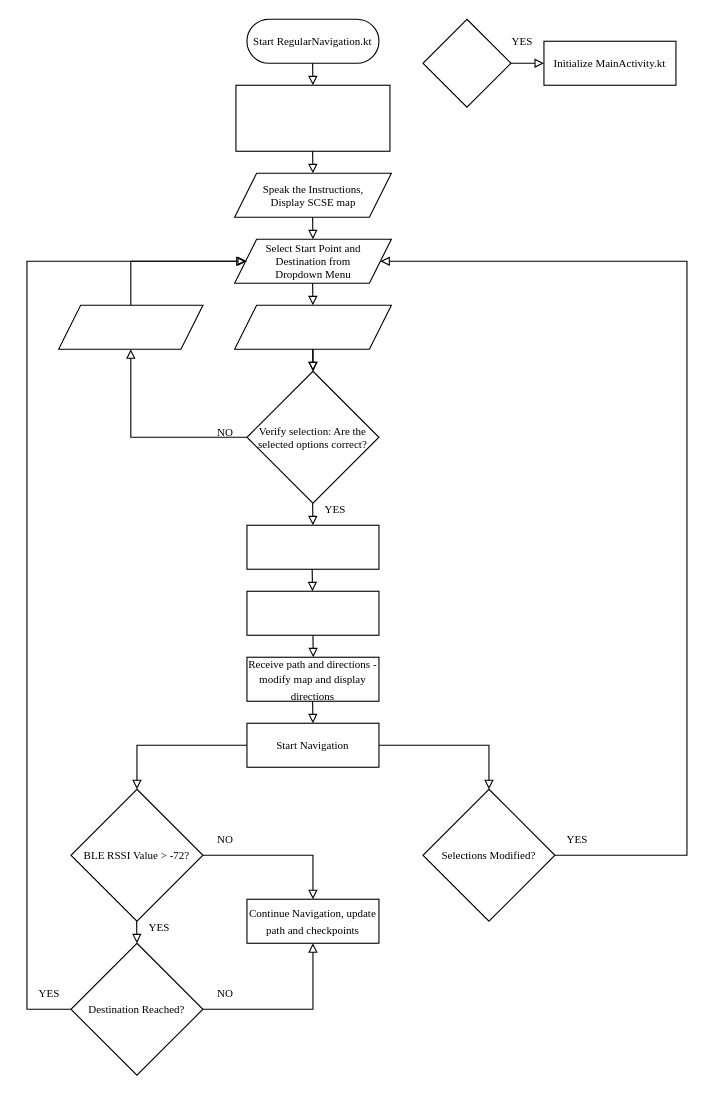
The diagram is 715 pixels wide and 1095 high, and some of its shapes have lost their labels. Each missing label, with the centre of its shape:
"Back-button pressed?" belongs at (466,62).
"Display Error Message" belongs at (130,326).
"Initialize Bluetooth Adapter, start scanning for BLE beacons" belongs at (312,546).
"Initialize connection to server and send selection (HTTP POST)" belongs at (312,612).
"Initialize TTS Controller, Sensor Manager, Accelerometer and Magnetometer" belongs at (312,117).
"Press the Get Directions button" belongs at (312,326).
